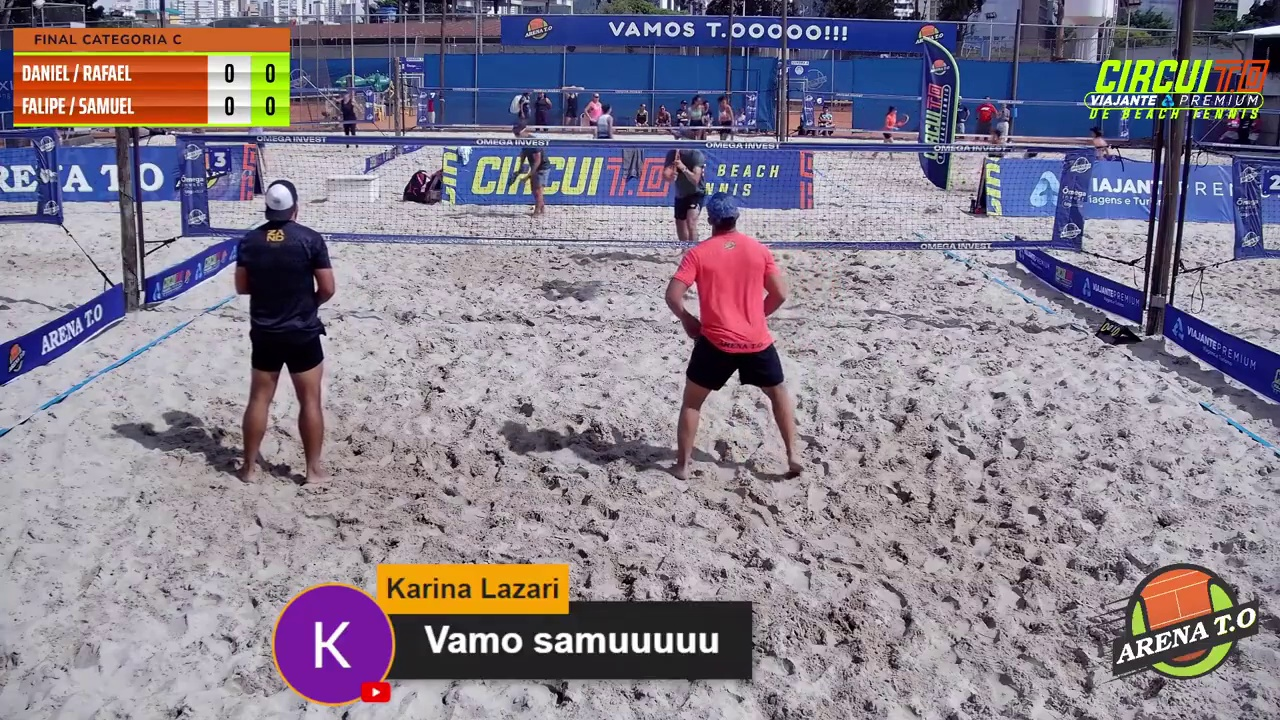court_line: (518, 0, 657, 403)
